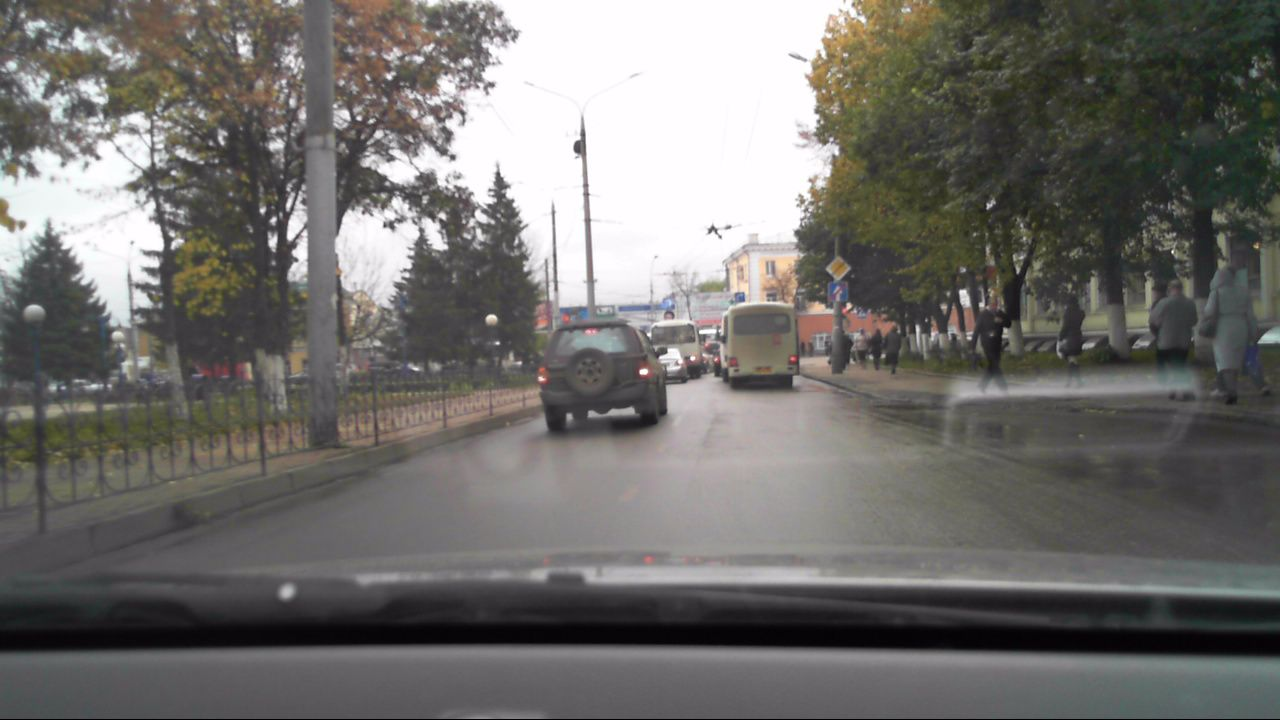main road: (823, 255, 847, 279)
